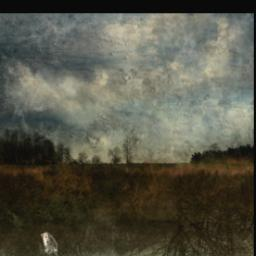Sparrow: (40, 232, 57, 256)
